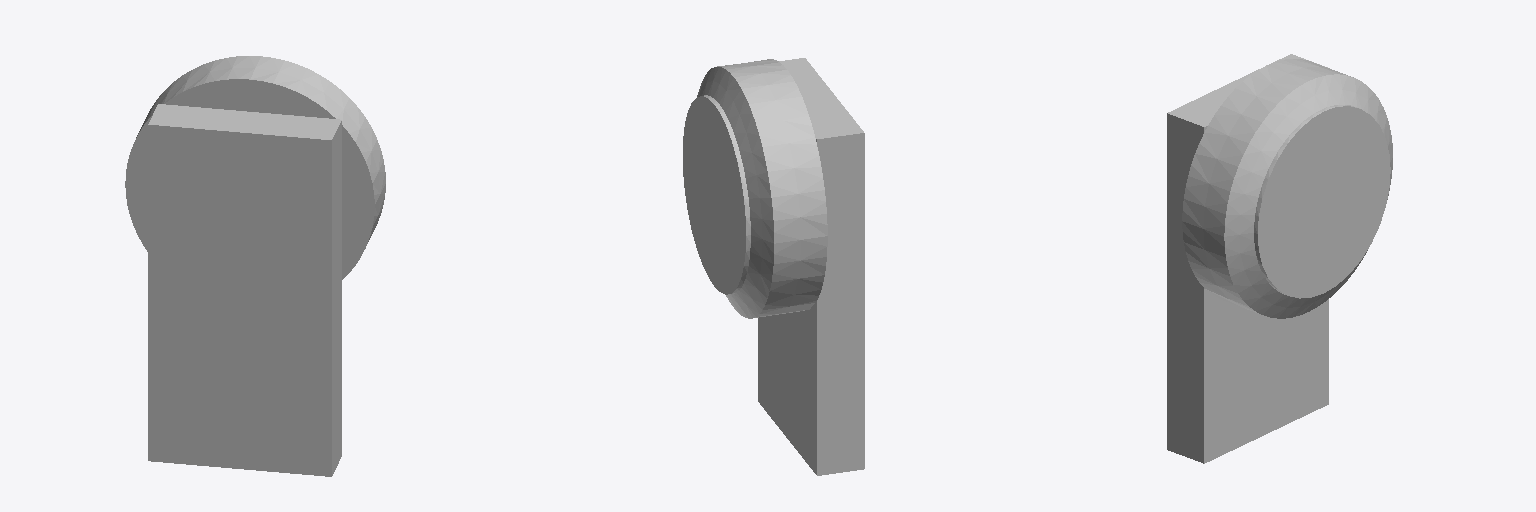
Rendered from mirror.obj.
The picture shows the model from 3 angles: view 1: azimuth 30°, elevation 25°; view 2: azimuth 150°, elevation 25°; view 3: azimuth 270°, elevation 25°; orthographic projection.
Parts seen in each view (by area): view 1: object_1; view 2: object_1; view 3: object_1.
Boxes of the visible parts, <box> form: object_1: <box>125,56,385,476</box>; object_1: <box>683,58,864,475</box>; object_1: <box>1167,54,1392,463</box>.
Bounding box in the file's own units: 0.8764 × 1.51 × 0.8397.